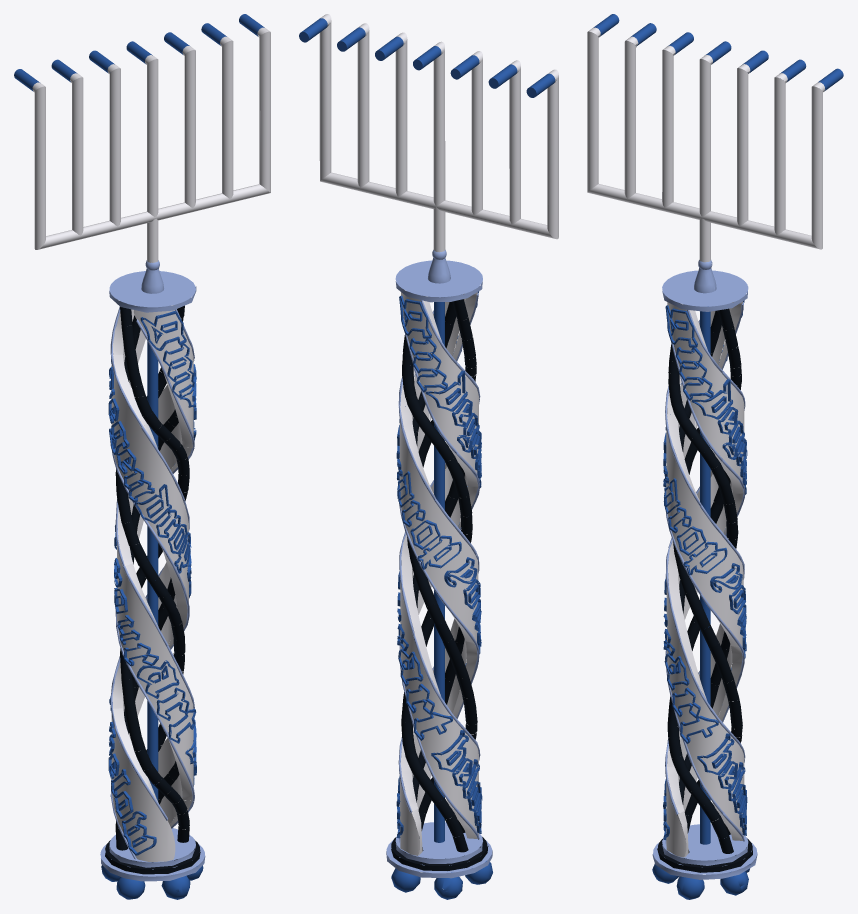
Rendered from osirisrake-og-v126.glb.
The picture shows the model from 3 angles, left to right: view 1: azimuth 30°, elevation 25°; view 2: azimuth 150°, elevation 25°; view 3: azimuth 330°, elevation 25°; orthographic projection.
Parts seen in each view (by area): view 1: açıkmavi,; view 2: açıkmavi,; view 3: açıkmavi,.
Boxes of the visible parts, <box> form: açıkmavi,: <box>14,14,270,899</box>; açıkmavi,: <box>299,14,558,899</box>; açıkmavi,: <box>587,14,843,899</box>.
Size of the model in its own units: 0.4772 by 1.61 by 0.185.
Materials: 1 (1 with a texture image).
